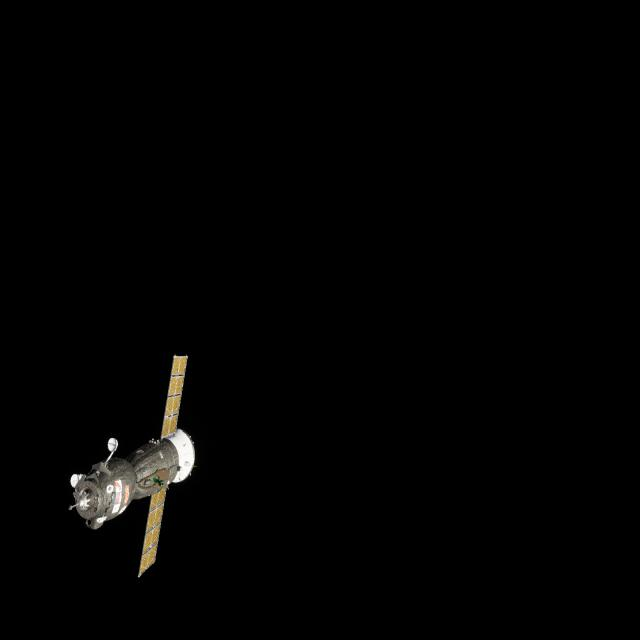Satellites revolving around earth: (67, 351, 197, 580)
